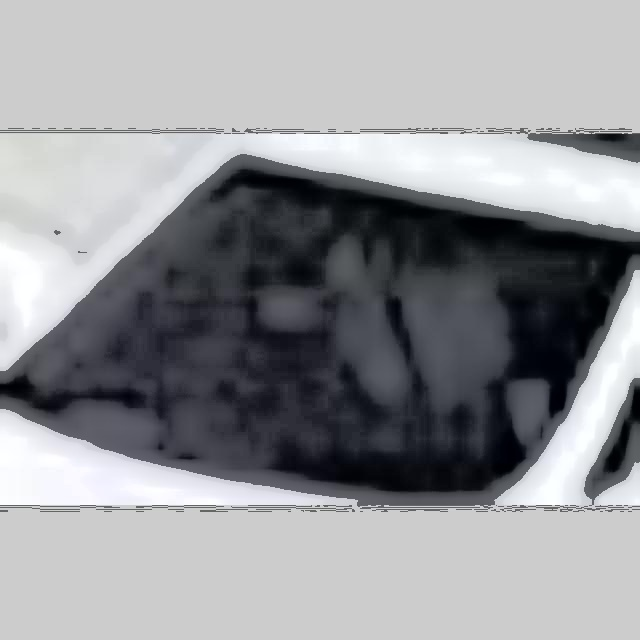pakai: (299, 175, 547, 444)
